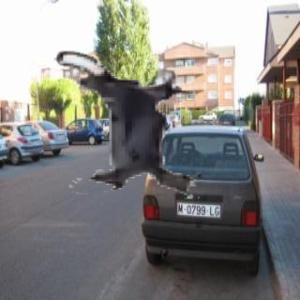drone: (38, 36, 221, 219)
